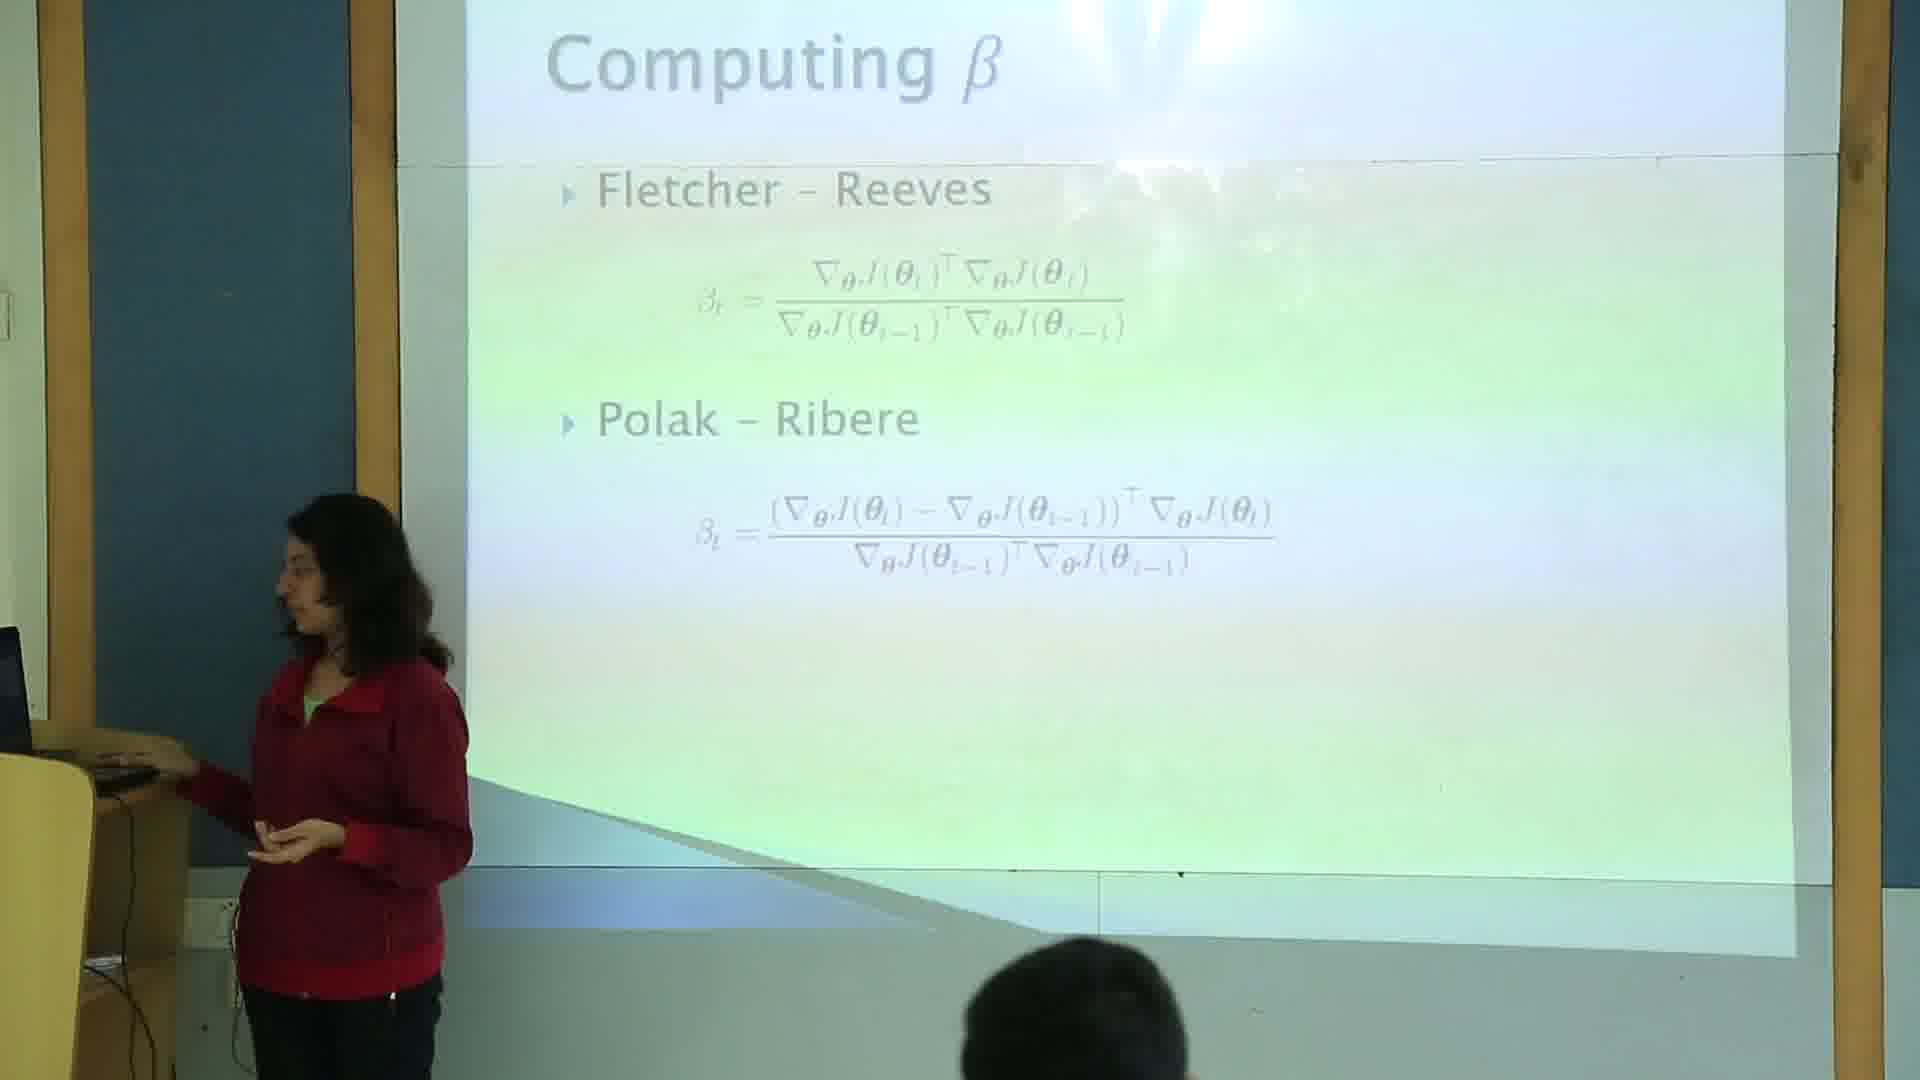eq: (691, 485, 1282, 588), (676, 251, 1134, 353)
